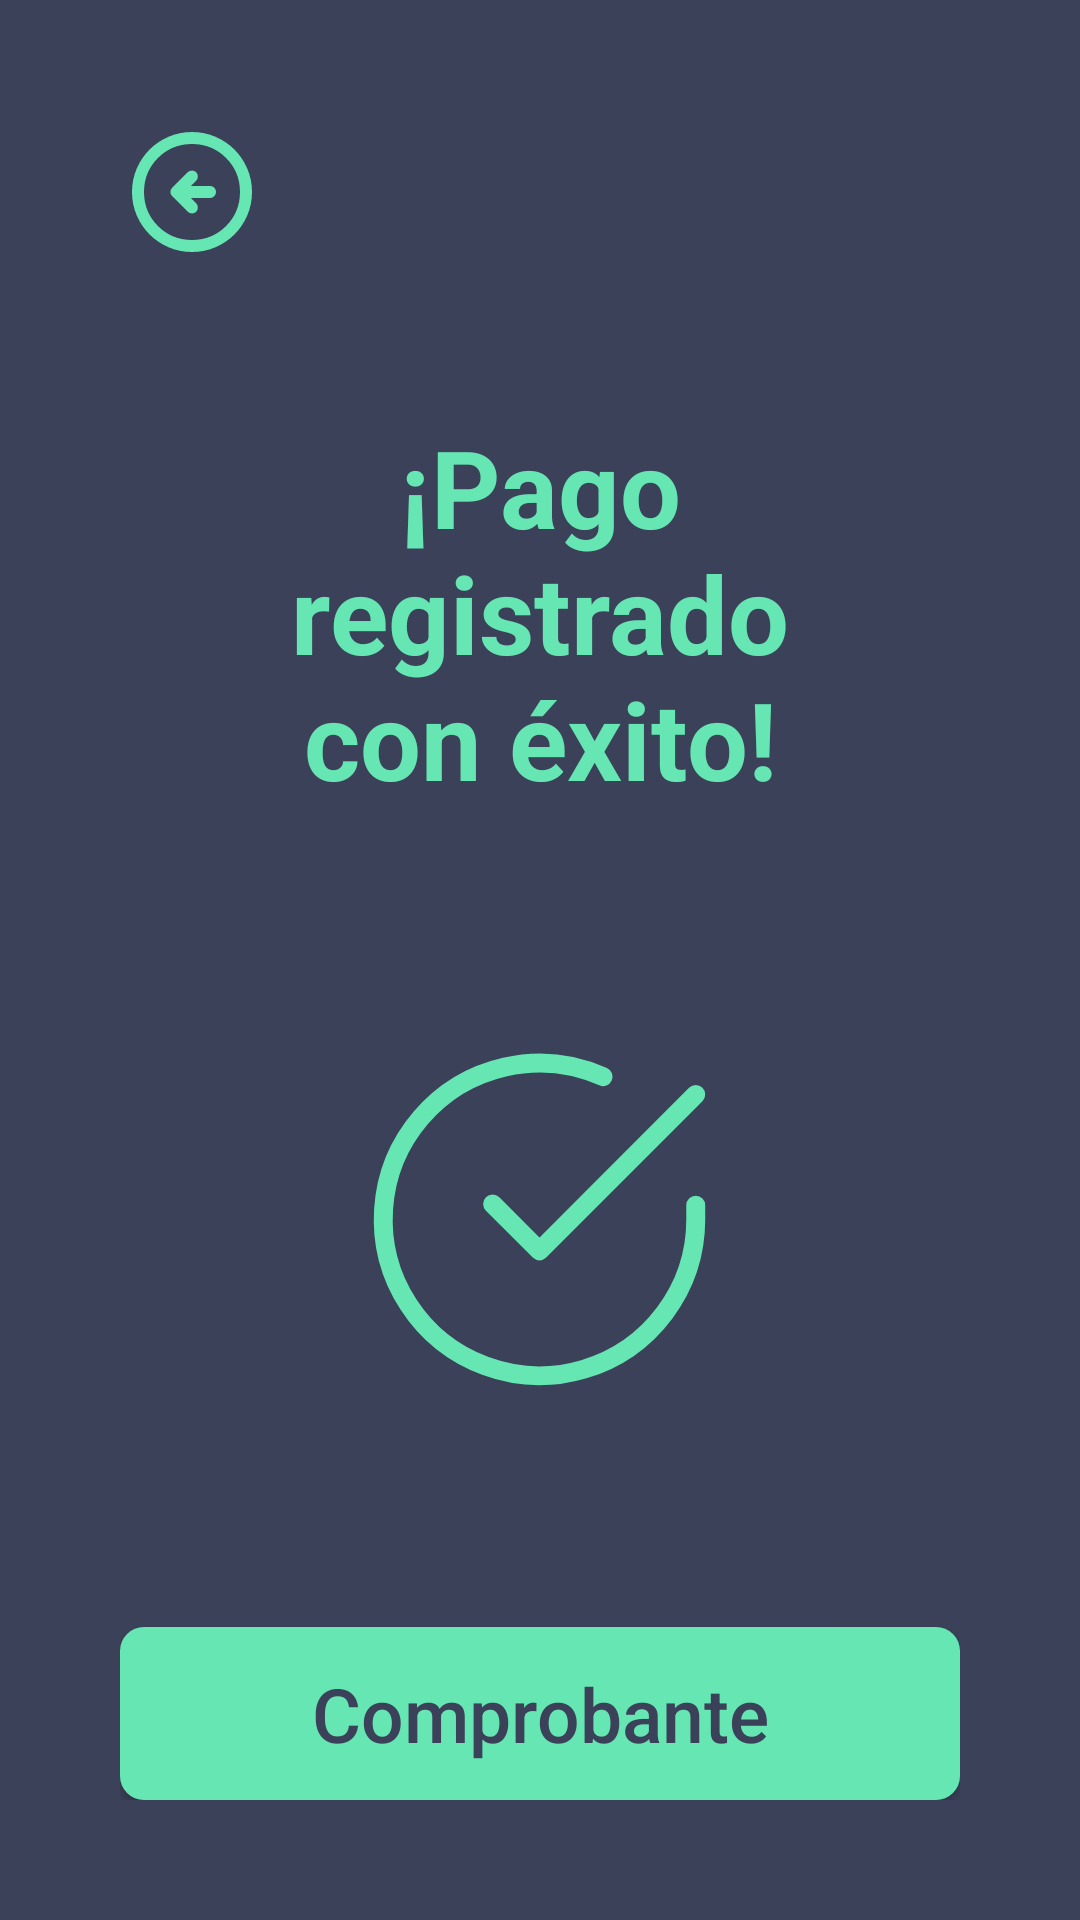

Icons on this 1080x1920 Android screen, each with its box as Rect(x1, y1, x2, y2):
check circle: Rect(373, 1053, 706, 1386)
